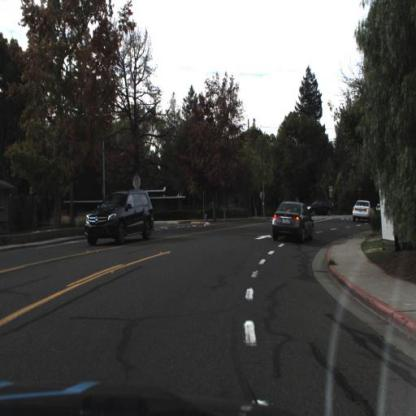car: (82, 187, 159, 252), (271, 200, 315, 246), (352, 198, 377, 227), (305, 199, 336, 221)
